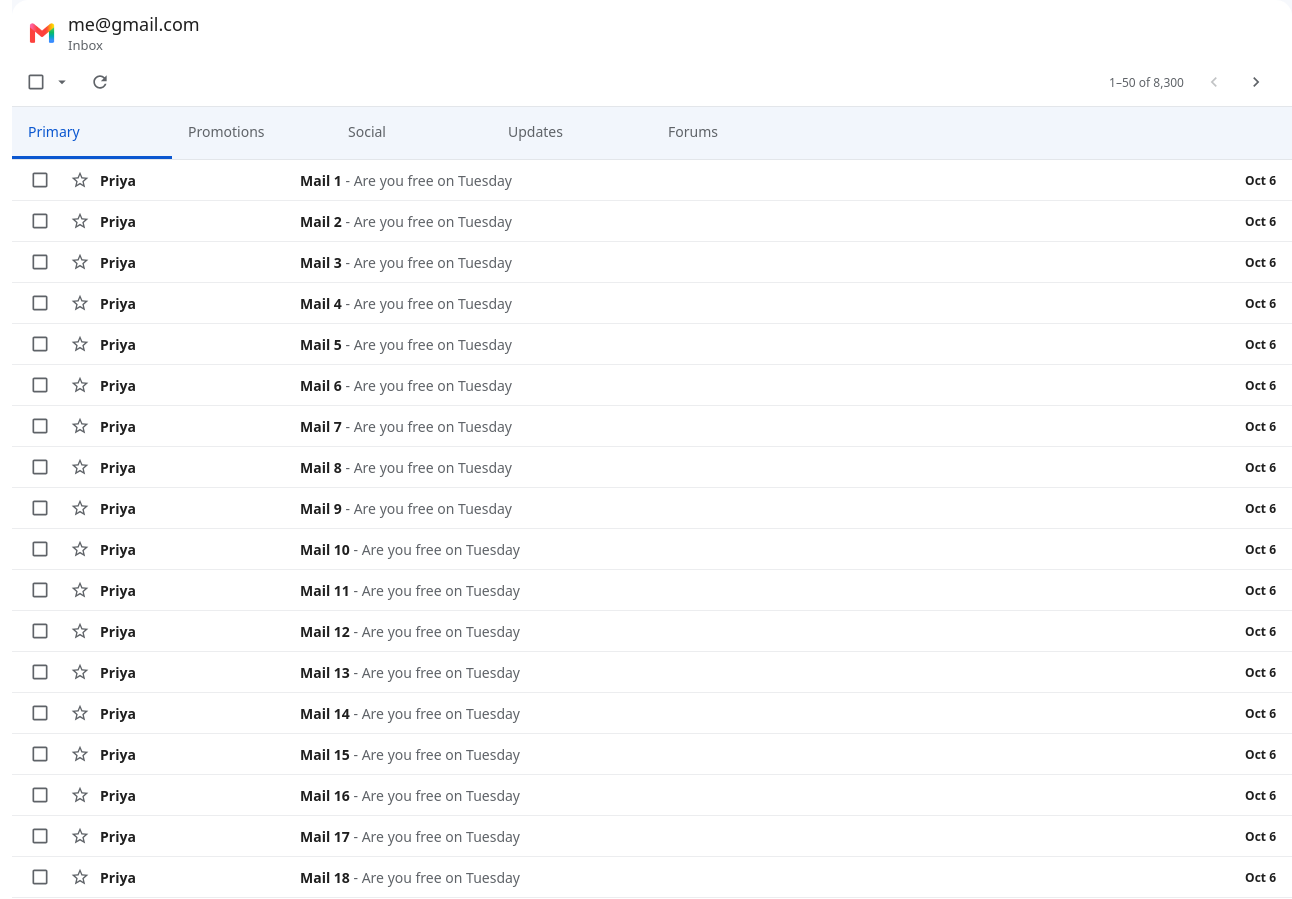
it: AccountMailbox › says something went wrong and offers a retry when the fetch fails
Expected: the text "Mail 1" is shown, x1=300 y1=170 x2=342 y2=190
Step 1. Click the button named "Older" → (1256, 82), box x1=1236 y1=62 x2=1276 y2=102
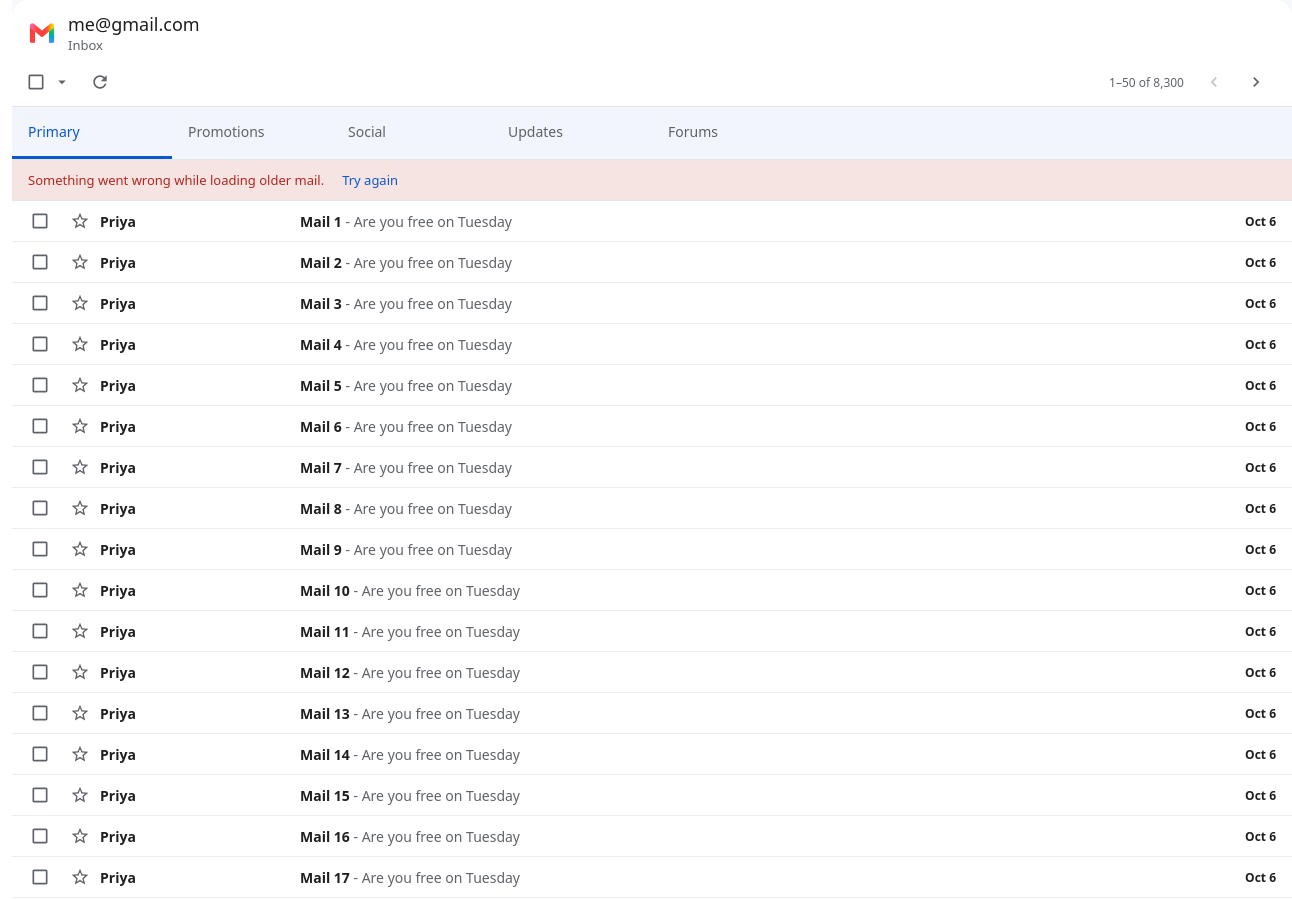
Expected: the text "1–50 of 8,300" is shown, x1=1109 y1=74 x2=1184 y2=90
Expected: the message shows "Something went wrong while loading older mail.", x1=28 y1=171 x2=324 y2=189
Expected: the button "Try again" is shown, x1=336 y1=170 x2=404 y2=190
